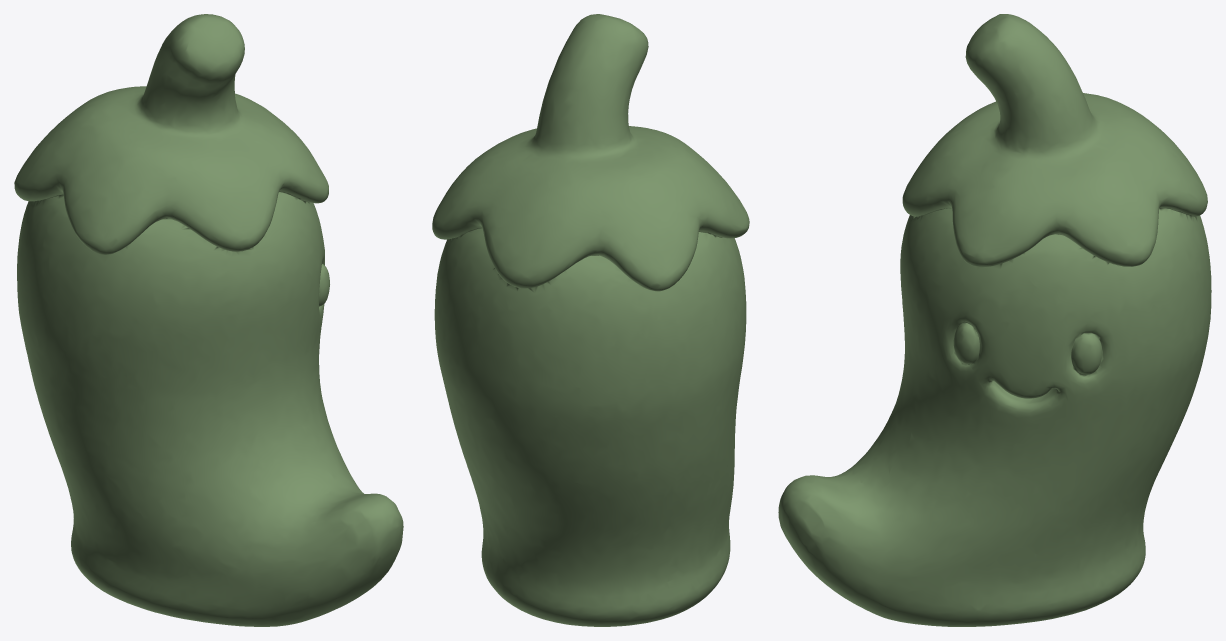
File: chili-pal.glb
The picture shows the model from 3 angles, left to right: view 1: azimuth 30°, elevation 25°; view 2: azimuth 150°, elevation 25°; view 3: azimuth 270°, elevation 25°; orthographic projection.
Parts seen in each view (by area): view 1: tripo_printable_source; view 2: tripo_printable_source; view 3: tripo_printable_source.
Part boxes in pixels (x1,y1,x2,y2): tripo_printable_source: [14, 14, 403, 626]; tripo_printable_source: [432, 14, 749, 626]; tripo_printable_source: [778, 14, 1211, 626].
Bounding box in the file's own units: 50.35 × 100 × 70.
